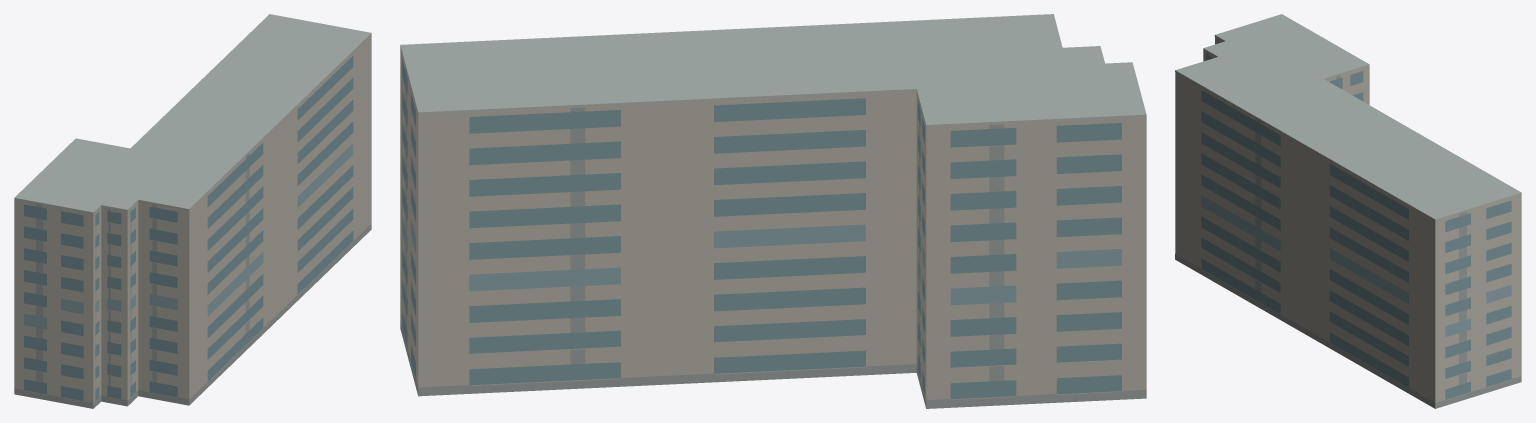
Rendered from residential-4cef2d52-94ae-413b-abec-600cb380d0bc.glb.
3 renders of one model, left to right at view 1: azimuth 30°, elevation 25°; view 2: azimuth 150°, elevation 25°; view 3: azimuth 270°, elevation 25°, orthographic. The views are drawn at different scales.
Visible parts, largest first — view 1: residential-4cef2d52-94ae-413b-abec-600cb380d0bc.tmp; view 2: residential-4cef2d52-94ae-413b-abec-600cb380d0bc.tmp; view 3: residential-4cef2d52-94ae-413b-abec-600cb380d0bc.tmp.
Boxes of the visible parts, bbox=[...] form: residential-4cef2d52-94ae-413b-abec-600cb380d0bc.tmp: bbox=[14, 14, 371, 408]; residential-4cef2d52-94ae-413b-abec-600cb380d0bc.tmp: bbox=[400, 14, 1146, 408]; residential-4cef2d52-94ae-413b-abec-600cb380d0bc.tmp: bbox=[1175, 14, 1521, 408].
Size of the model in its own units: 58.18 by 25 by 41.47.
